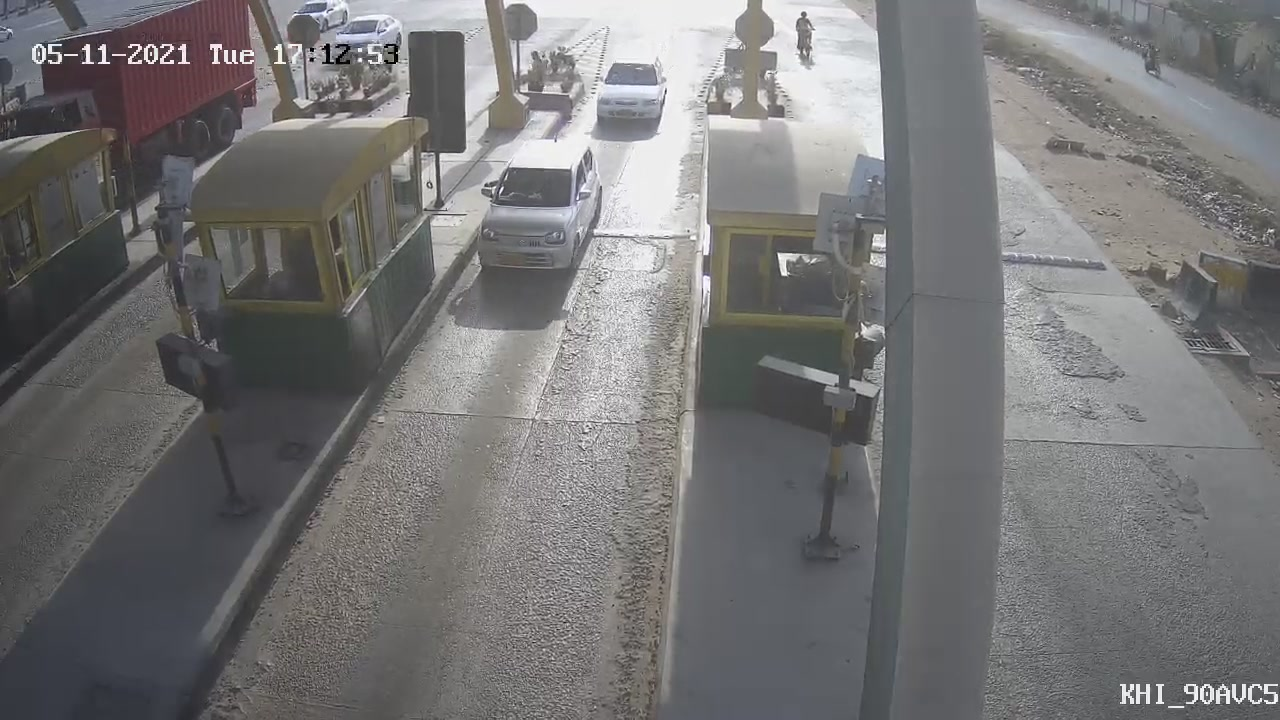F1: (461, 124, 617, 296), (576, 35, 685, 144)
